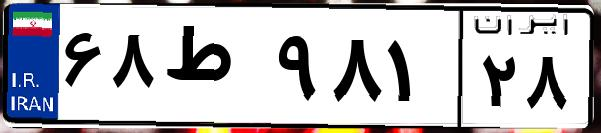1: (385, 28, 445, 110)
2: (475, 38, 525, 113)
6: (57, 26, 110, 100)
8: (330, 28, 385, 110), (525, 38, 570, 115), (110, 28, 158, 98)
9: (270, 28, 330, 110)
ط: (158, 20, 270, 120)
